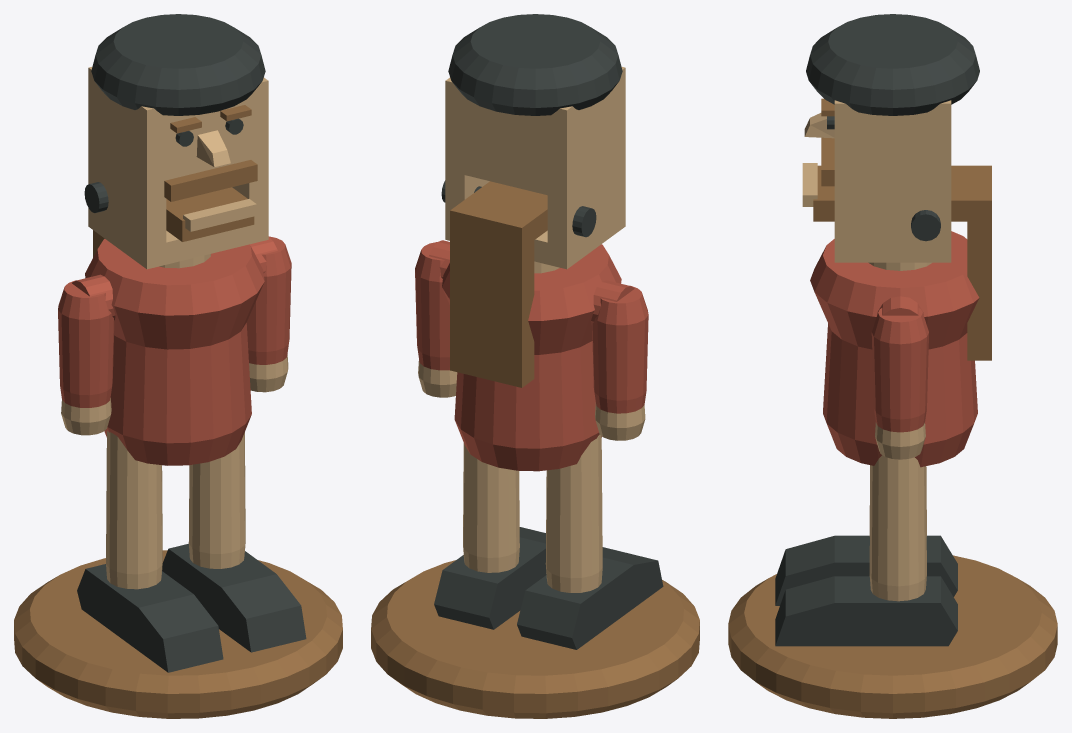
3 renders of one model, left to right at view 1: azimuth 30°, elevation 25°; view 2: azimuth 150°, elevation 25°; view 3: azimuth 270°, elevation 25°, orthographic.
Visible parts, largest first — view 1: WholeShapedSolidTorso, WholeGroundFootDisplayPlinth, WholeThroughMouthWoodHead, WholeLowPlainCap, WholeLongWoodShoe_0, WholeLongWoodShoe_1, WholeWoodLeg_0, WholeWoodLeg_1, WholeSimpleWoodArm_0, WholeSimpleWoodArm_1, WholeLowerJawAndRearLever, WholeUpperLipStrip (+6 smaller); view 2: WholeGroundFootDisplayPlinth, WholeThroughMouthWoodHead, WholeShapedSolidTorso, WholeLowerJawAndRearLever, WholeLowPlainCap, WholeLongWoodShoe_0, WholeWoodLeg_0, WholeSimpleWoodArm_0, WholeWoodLeg_1, WholeLongWoodShoe_1, WholeSimpleWoodArm_1, WholeBluntWoodHand_0 (+3 smaller); view 3: WholeGroundFootDisplayPlinth, WholeShapedSolidTorso, WholeThroughMouthWoodHead, WholeLowPlainCap, WholeLongWoodShoe_1, WholeWoodLeg_1, WholeLowerJawAndRearLever, WholeSimpleWoodArm_1, WholeLongWoodShoe_0, WholeBluntWoodHand_1, WholePinCap_1, WholeUpperLipStrip (+3 smaller).
Boxes of the visible parts, <box> form: WholeShapedSolidTorso: <box>85,239,264,465</box>; WholeGroundFootDisplayPlinth: <box>14,550,342,718</box>; WholeThroughMouthWoodHead: <box>88,67,268,269</box>; WholeLowPlainCap: <box>91,14,265,115</box>; WholeLongWoodShoe_0: <box>77,564,223,672</box>; WholeLongWoodShoe_1: <box>162,544,306,652</box>; WholeWoodLeg_0: <box>106,431,162,589</box>; WholeWoodLeg_1: <box>188,432,245,568</box>; WholeSimpleWoodArm_0: <box>58,280,114,407</box>; WholeSimpleWoodArm_1: <box>246,236,291,364</box>; WholeLowerJawAndRearLever: <box>93,187,254,257</box>; WholeUpperLipStrip: <box>164,160,257,201</box>; WholeGroundFootDisplayPlinth: <box>371,560,699,718</box>; WholeThroughMouthWoodHead: <box>445,67,625,269</box>; WholeShapedSolidTorso: <box>442,244,621,471</box>; WholeLowerJawAndRearLever: <box>450,181,547,387</box>; WholeLowPlainCap: <box>448,14,622,115</box>; WholeLongWoodShoe_0: <box>517,547,663,649</box>; WholeWoodLeg_0: <box>545,434,602,592</box>; WholeSimpleWoodArm_0: <box>592,285,648,413</box>; WholeWoodLeg_1: <box>463,443,519,572</box>; WholeLongWoodShoe_1: <box>434,527,546,629</box>; WholeSimpleWoodArm_1: <box>415,242,449,370</box>; WholeBluntWoodHand_0: <box>595,402,645,440</box>; WholeGroundFootDisplayPlinth: <box>728,555,1057,718</box>; WholeShapedSolidTorso: <box>810,231,979,467</box>; WholeThroughMouthWoodHead: <box>834,100,951,262</box>; WholeLowPlainCap: <box>806,14,979,115</box>; WholeLongWoodShoe_1: <box>775,576,957,646</box>; WholeWoodLeg_1: <box>869,455,926,601</box>; WholeLowerJawAndRearLever: <box>813,165,991,360</box>; WholeSimpleWoodArm_1: <box>871,308,928,432</box>; WholeLongWoodShoe_0: <box>775,535,957,605</box>; WholeBluntWoodHand_1: <box>875,422,925,459</box>; WholePinCap_1: <box>911,210,940,241</box>; WholeUpperLipStrip: <box>821,137,834,186</box>.
Size of the model in its own units: 0.31 by 0.637 by 0.31.
